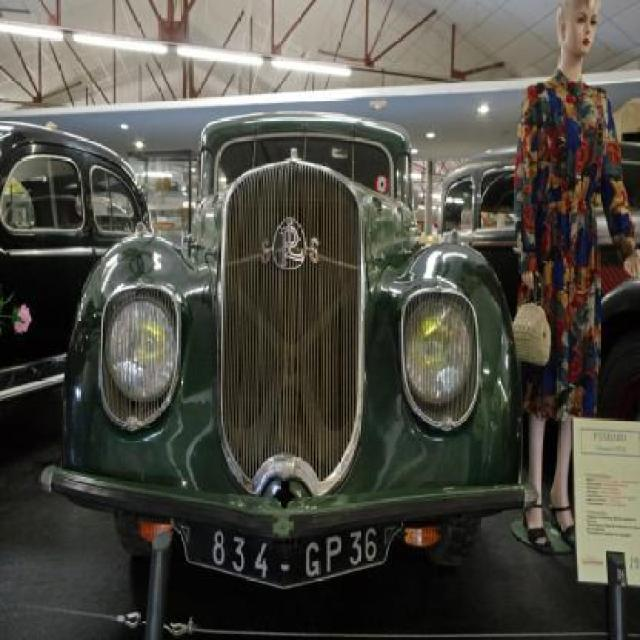Person: (512, 0, 638, 555)
